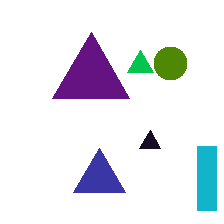circle: (154, 47, 186, 79)
rectangle: (197, 146, 216, 210)
triangle: (52, 32, 129, 98), (73, 148, 125, 192), (127, 50, 153, 72), (139, 130, 160, 148)
